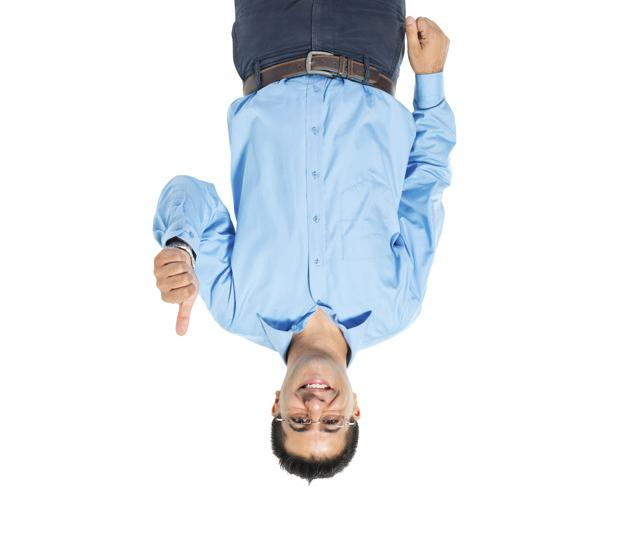thumbsdown: (154, 249, 197, 336)
